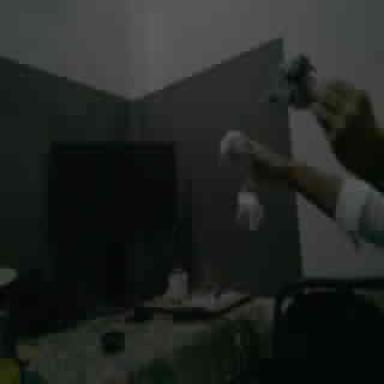paper: (268, 54, 313, 104), (238, 181, 262, 229), (221, 131, 254, 160)
